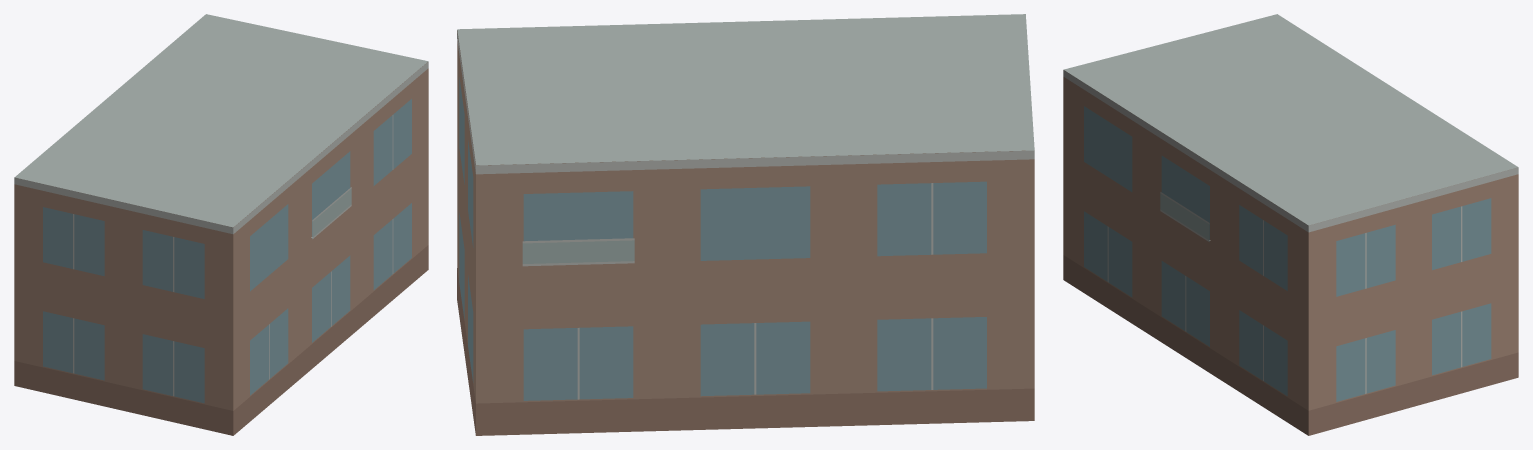
File: survey-upis-32624065.glb
The picture shows the model from 3 angles, left to right: view 1: azimuth 30°, elevation 25°; view 2: azimuth 150°, elevation 25°; view 3: azimuth 270°, elevation 25°; orthographic projection. The views are drawn at different scales.
Parts seen in each view (by area): view 1: survey-upis-32624065.tmp; view 2: survey-upis-32624065.tmp; view 3: survey-upis-32624065.tmp.
Boxes of the visible parts, x1,y1,x2,y2 form: survey-upis-32624065.tmp: (14, 14, 428, 435); survey-upis-32624065.tmp: (457, 14, 1034, 435); survey-upis-32624065.tmp: (1063, 14, 1518, 435).
Size of the model in its own units: 15.97 by 7.4 by 14.52.
